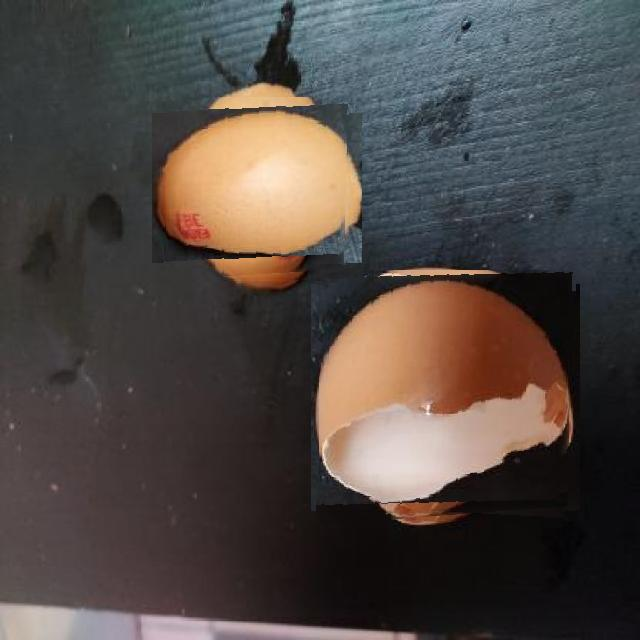biodegradable: (319, 270, 573, 525), (166, 97, 348, 280)
